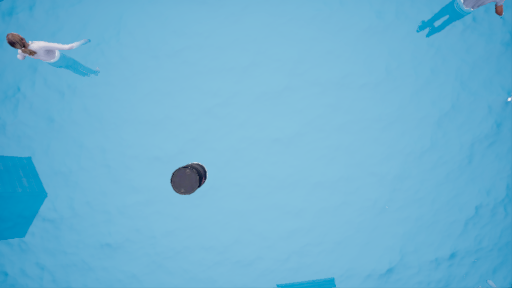person: (8, 30, 112, 83)
